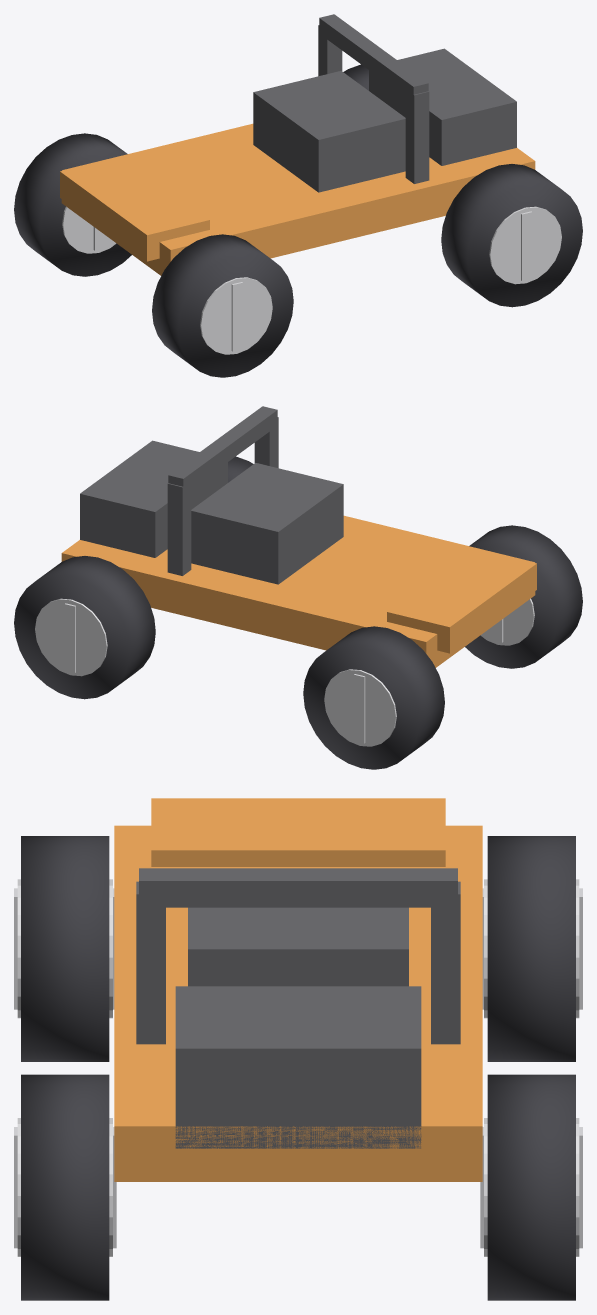
File: Buggy.fbx
3 views of the same model, one above another, from view 1: azimuth 30°, elevation 25°; view 2: azimuth 150°, elevation 25°; view 3: azimuth 270°, elevation 25° (orthographic). The views are drawn at different scales.
Visible parts, largest first — view 1: Frame, wheel.fl, wheel.rl, Seat, Engine, wheel.fr, Nose, RollBar, RollBarL, RollBarR; view 2: Frame, wheel.fr, wheel.rr, Seat, Engine, wheel.fl, Nose, RollBar, RollBarR, RollBarL; view 3: Frame, Engine, wheel.rl, wheel.rr, wheel.fl, wheel.fr, Nose, Seat, RollBar, RollBarR, RollBarL.
Boxes of the visible parts, <box> form: Frame: <box>61,123,535,275</box>; wheel.fl: <box>152,234,293,377</box>; wheel.rl: <box>441,164,582,307</box>; Seat: <box>253,71,405,192</box>; Engine: <box>369,48,516,165</box>; wheel.fr: <box>14,133,131,276</box>; Nose: <box>60,156,209,261</box>; RollBar: <box>319,14,428,102</box>; RollBarL: <box>405,90,429,183</box>; RollBarR: <box>318,25,342,76</box>; Frame: <box>61,515,535,667</box>; wheel.fr: <box>303,626,444,769</box>; wheel.rr: <box>14,556,155,699</box>; Seat: <box>191,463,343,584</box>; Engine: <box>80,440,227,557</box>; wheel.fl: <box>465,525,582,668</box>; Nose: <box>387,548,536,653</box>; RollBar: <box>168,406,277,494</box>; RollBarR: <box>167,481,191,575</box>; RollBarL: <box>254,417,278,468</box>; Frame: <box>114,825,482,1181</box>; Engine: <box>175,986,421,1148</box>; wheel.rl: <box>14,1074,116,1300</box>; wheel.rr: <box>480,1074,582,1300</box>; wheel.fl: <box>14,836,114,1061</box>; wheel.fr: <box>482,836,582,1061</box>; Nose: <box>151,798,445,866</box>; Seat: <box>188,907,408,986</box>; RollBar: <box>139,868,457,907</box>; RollBarR: <box>431,881,460,1044</box>; RollBarL: <box>136,881,165,1044</box>.
Bounding box in the file's own units: 3.22 × 1.61 × 2.32.
